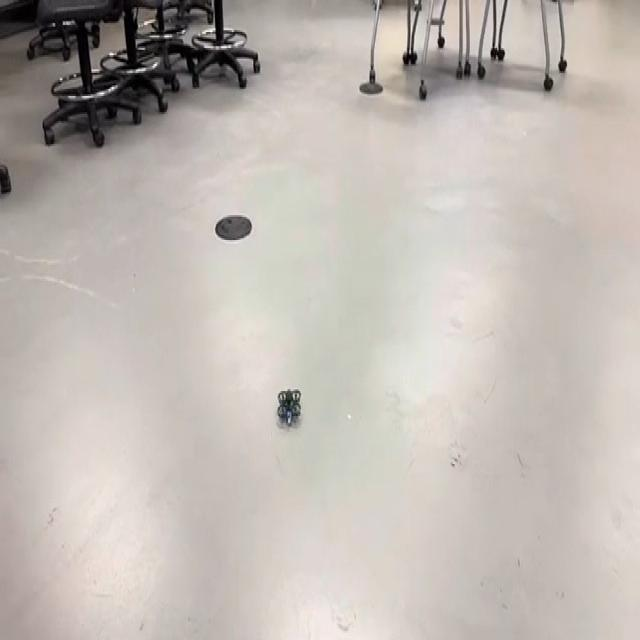drone: (272, 376, 306, 434)
